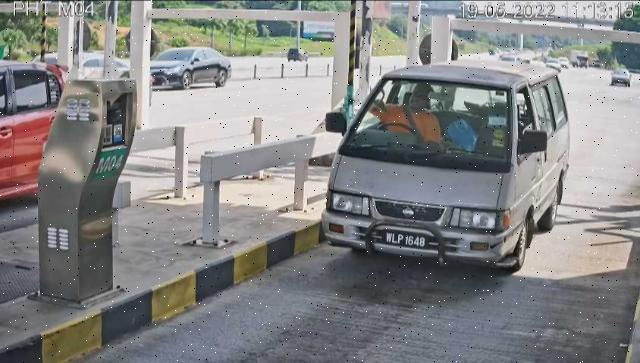License_Plate: (383, 229, 432, 254)
van: (323, 61, 571, 272)
